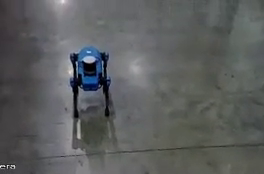robot dog: (66, 44, 114, 119)
